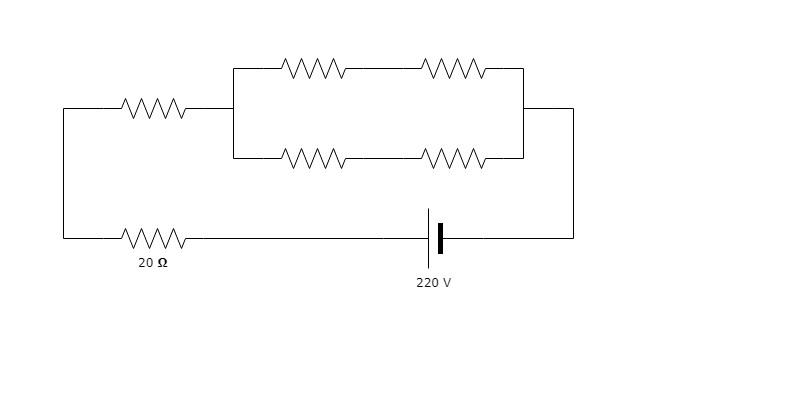resistor: (257, 129, 369, 185), (106, 206, 205, 257), (107, 81, 200, 131), (264, 43, 355, 85), (406, 132, 500, 166)
